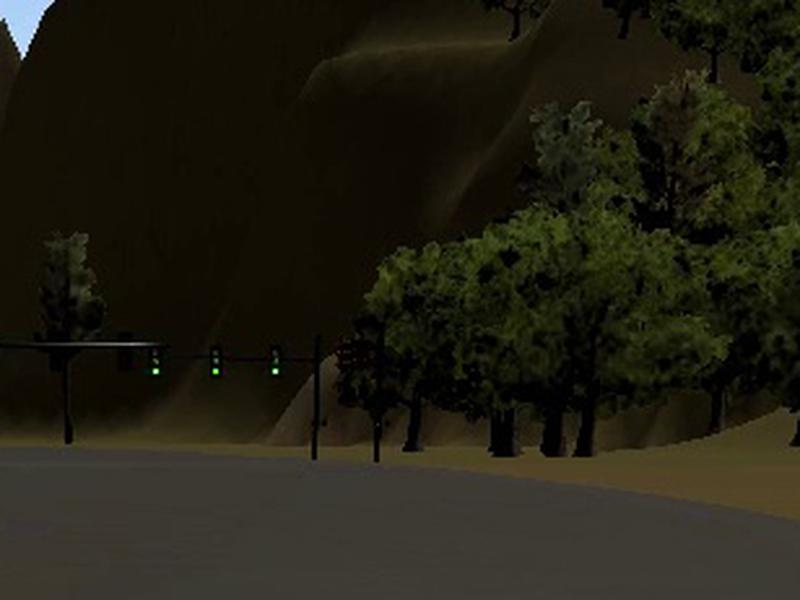Green: (269, 345, 283, 378), (149, 347, 163, 376), (210, 347, 221, 378)
